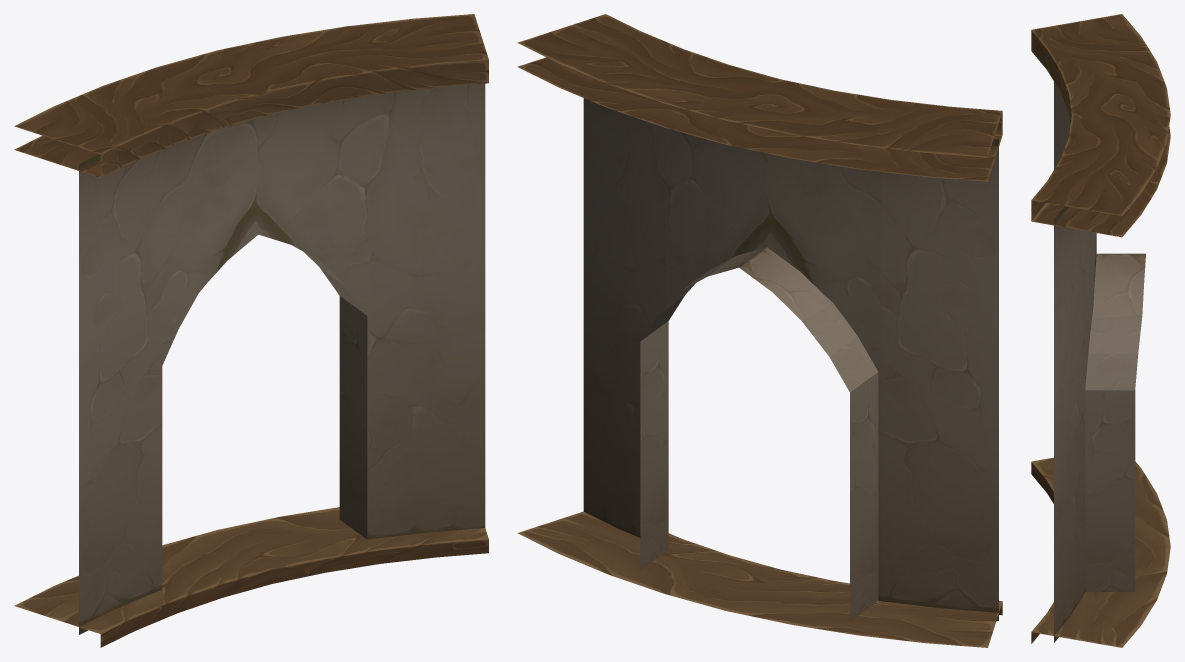
The model's file is Wall_round_4_3.FBX.
3 views of the same model, side by side, from view 1: azimuth 30°, elevation 25°; view 2: azimuth 150°, elevation 25°; view 3: azimuth 270°, elevation 25° (orthographic). The views are drawn at different scales.
Visible parts, largest first — view 1: Wall_round_4_3; view 2: Wall_round_4_3; view 3: Wall_round_4_3.
Boxes of the visible parts, <box> form: Wall_round_4_3: <box>14,14,488,647</box>; Wall_round_4_3: <box>517,14,1002,647</box>; Wall_round_4_3: <box>1031,14,1170,647</box>.
Bounding box in the file's own units: 3486 × 3570 × 1017.
